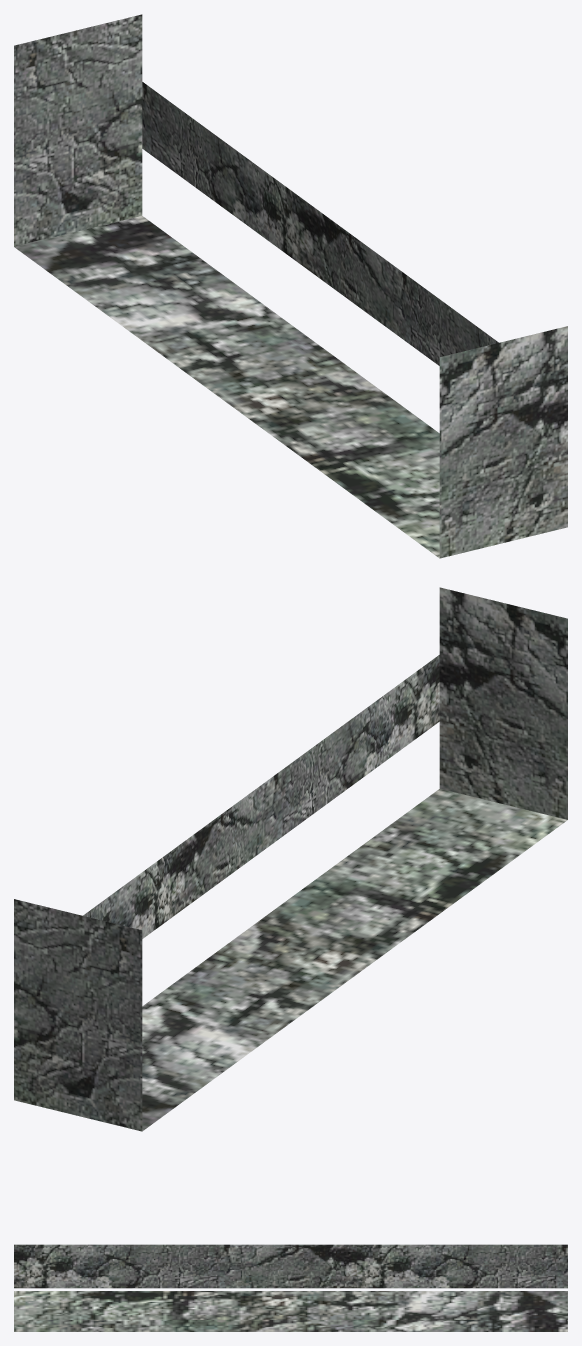
File: R3073_DMSPRITEDEF.obj
The picture shows the model from 3 angles, top to bottom: view 1: azimuth 30°, elevation 25°; view 2: azimuth 150°, elevation 25°; view 3: azimuth 270°, elevation 25°; orthographic projection. The views are drawn at different scales.
Bounding box in the file's own units: 32 × 48 × 184.
1 material, 1 textured.
